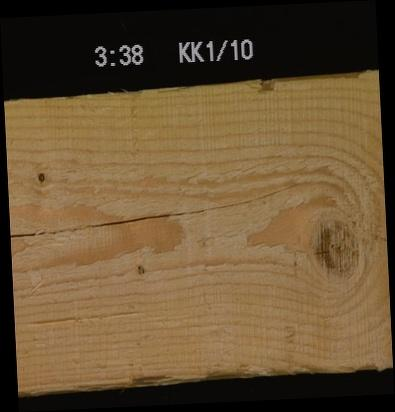dry_knot: (35, 170, 44, 182)
small_knot: (134, 263, 145, 276)
sound_knot: (313, 222, 361, 276)
split: (9, 186, 303, 231)
wave: (74, 358, 392, 383)
